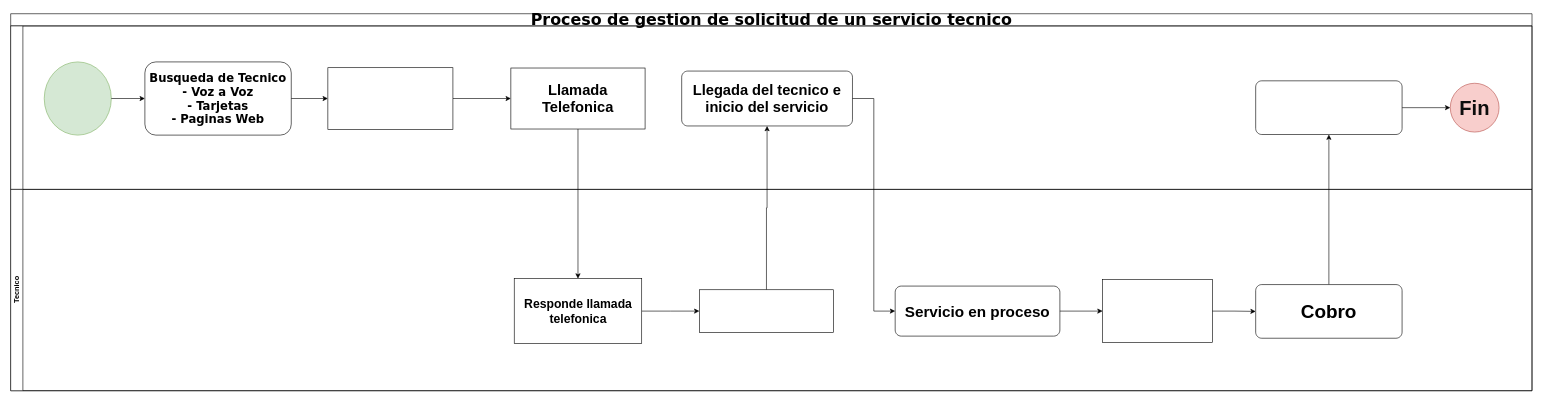
This 1543x401 diagram has some shape labels left out. Here are the shapes that lost their labels. From the top down, the box of each, then its label:
(44, 61, 111, 135): Inicio
(327, 67, 453, 129): Selección de Técnico
(1255, 80, 1402, 135): Pago
(699, 289, 834, 332): Programacion de visita
(1102, 279, 1212, 343): Servicio realizado
